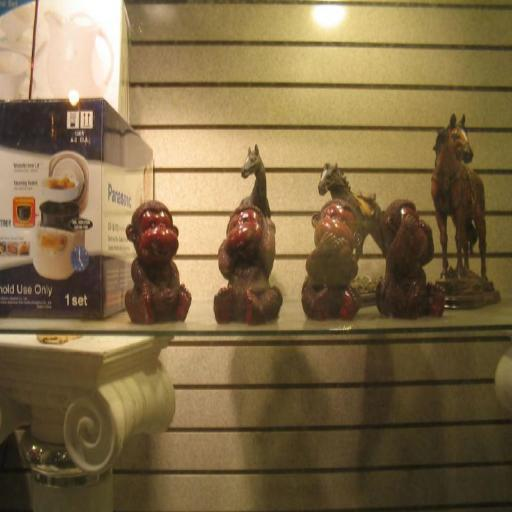horse: (432, 112, 488, 278), (316, 160, 386, 262), (238, 141, 270, 217)
